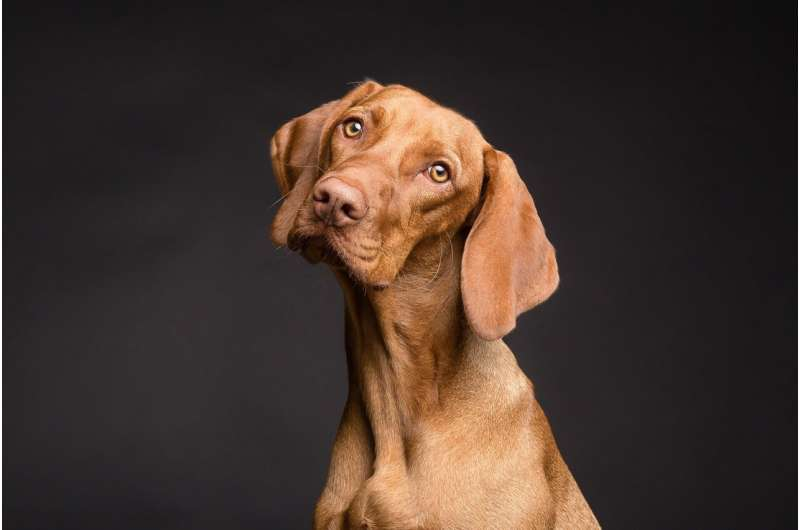dog: (211, 40, 639, 399)
